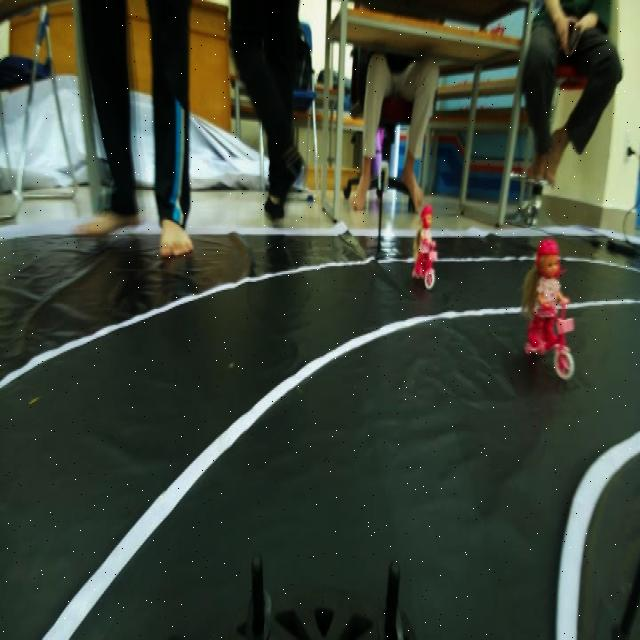pedestrian: (515, 230, 575, 370), (404, 198, 434, 293)
